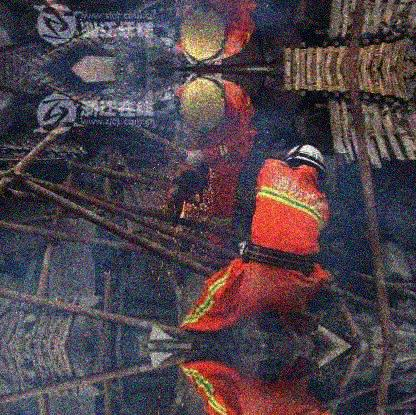helmet: (170, 9, 232, 65), (179, 78, 232, 128), (284, 143, 329, 183)
